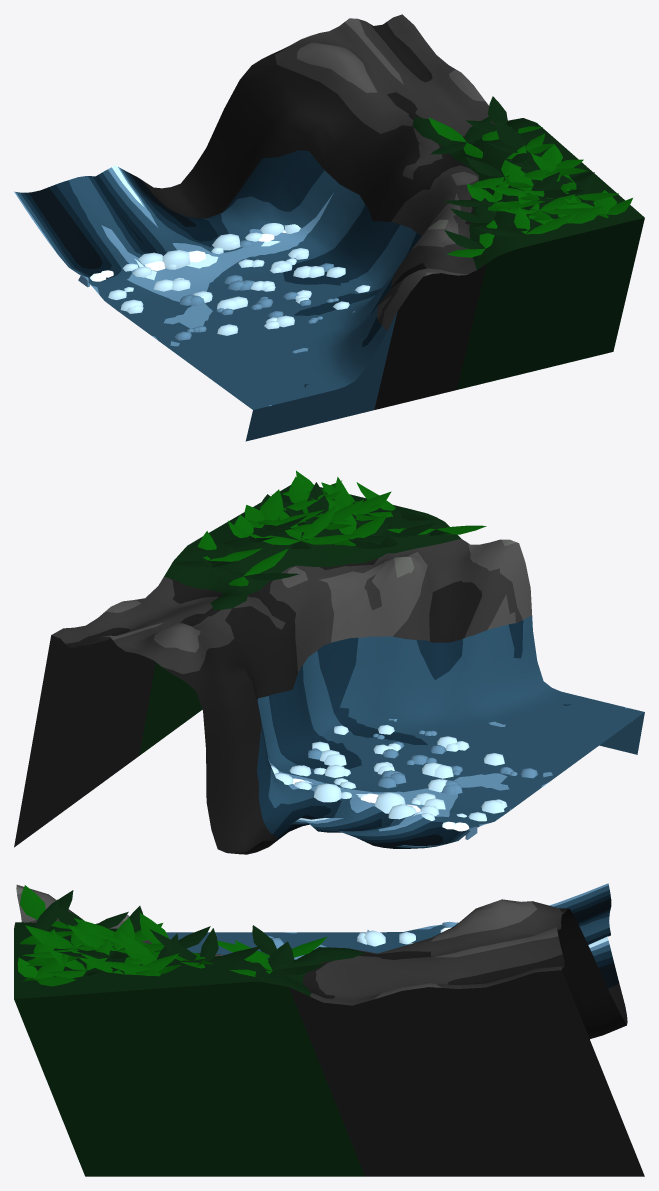
File: torm_fall_br_282.glb
3 views of the same model, one above another, from view 1: azimuth 30°, elevation 25°; view 2: azimuth 150°, elevation 25°; view 3: azimuth 270°, elevation 25° (orthographic). The views are drawn at different scales.
Parts seen in each view (by area): view 1: torm_fall_br_282; view 2: torm_fall_br_282; view 3: torm_fall_br_282.
Part boxes in pixels (x1,y1,x2,y2): torm_fall_br_282: [14, 14, 644, 441]; torm_fall_br_282: [14, 470, 644, 854]; torm_fall_br_282: [14, 883, 644, 1176].
Size of the model in its own units: 24 by 12.18 by 31.57.
